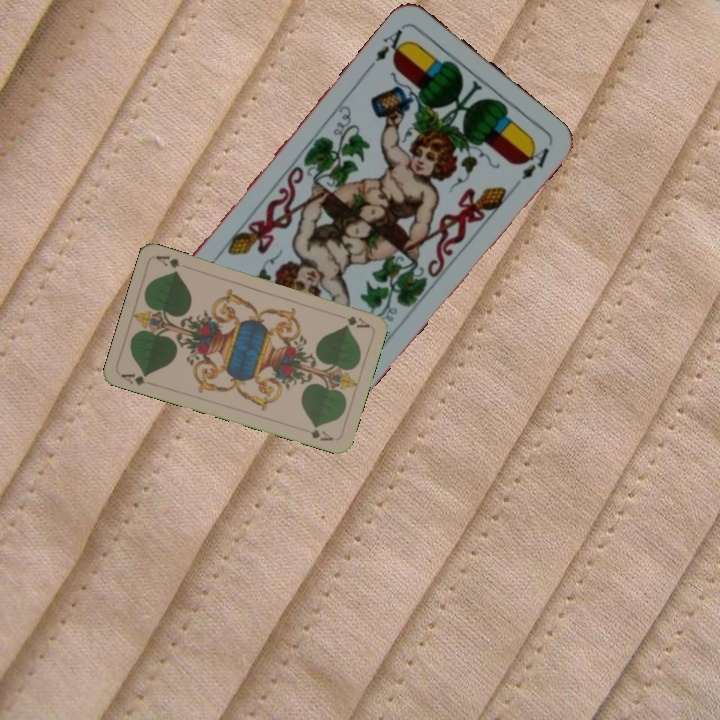EA: (371, 21, 411, 65)
GA: (117, 369, 151, 388), (343, 312, 372, 330)
